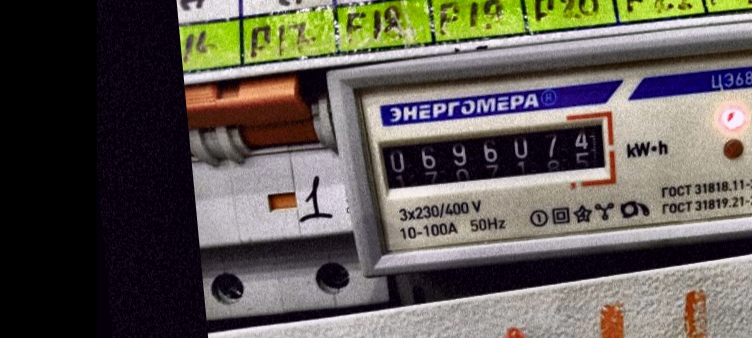0: (386, 147, 407, 174), (512, 133, 531, 160)
4: (573, 126, 591, 151)
5: (575, 150, 592, 169)
6: (419, 142, 440, 171), (481, 138, 500, 163)
7: (541, 131, 562, 158)
9: (449, 140, 470, 167)
screen: (366, 105, 625, 210)
